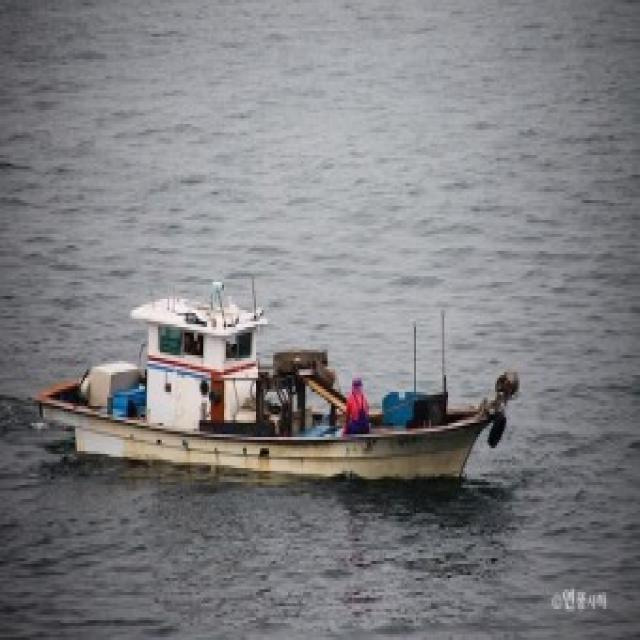Ship: (20, 264, 530, 512)
